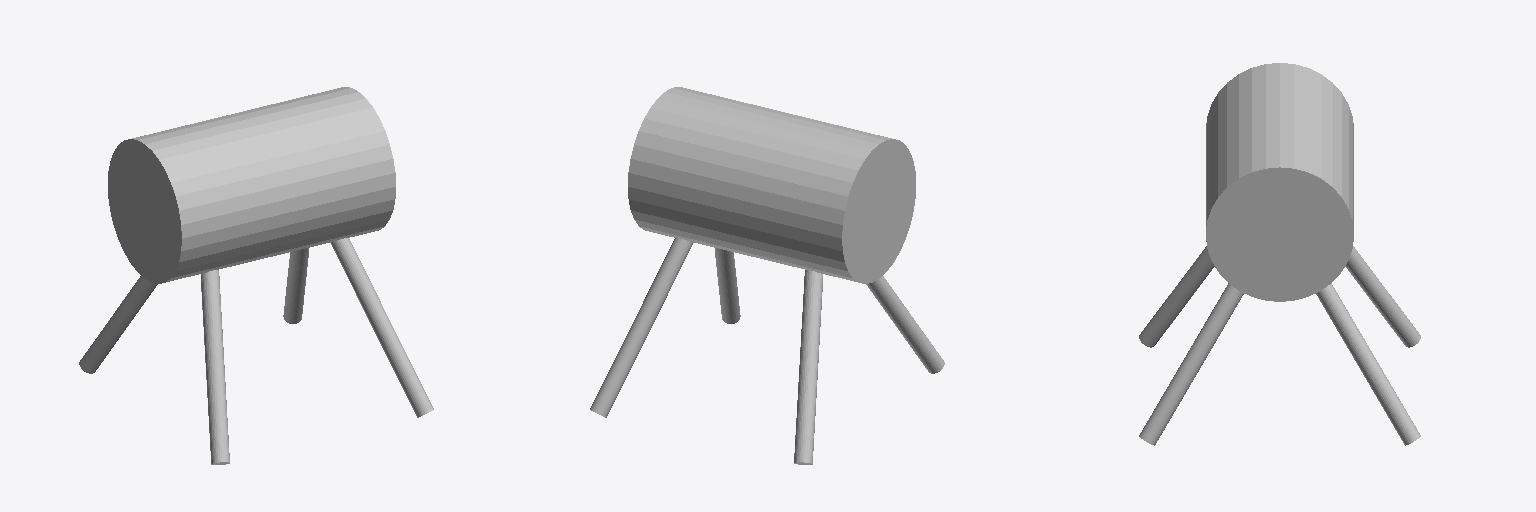
The model's file is target_holder.obj.
3 renders of one model, left to right at view 1: azimuth 30°, elevation 25°; view 2: azimuth 150°, elevation 25°; view 3: azimuth 270°, elevation 25°, orthographic.
Parts seen in each view (by area): view 1: target_holder_Cylinder.001, leg4_Cylinder.005, leg2_Cylinder.003, leg1_Cylinder.002, leg3_Cylinder.004; view 2: target_holder_Cylinder.001, leg3_Cylinder.004, leg1_Cylinder.002, leg2_Cylinder.003, leg4_Cylinder.005; view 3: target_holder_Cylinder.001, leg3_Cylinder.004, leg4_Cylinder.005, leg1_Cylinder.002, leg2_Cylinder.003.
Boxes of the visible parts, <box> form: target_holder_Cylinder.001: <box>108,87,395,283</box>; leg4_Cylinder.005: <box>330,238,433,417</box>; leg2_Cylinder.003: <box>201,270,229,464</box>; leg1_Cylinder.002: <box>79,276,157,373</box>; leg3_Cylinder.004: <box>283,247,309,323</box>; target_holder_Cylinder.001: <box>628,87,915,283</box>; leg3_Cylinder.004: <box>590,238,693,417</box>; leg1_Cylinder.002: <box>794,270,822,464</box>; leg2_Cylinder.003: <box>866,276,944,373</box>; leg4_Cylinder.005: <box>714,247,740,323</box>; target_holder_Cylinder.001: <box>1206,63,1353,301</box>; leg3_Cylinder.004: <box>1316,283,1420,445</box>; leg4_Cylinder.005: <box>1139,283,1243,445</box>; leg1_Cylinder.002: <box>1345,246,1420,347</box>; leg2_Cylinder.003: <box>1139,246,1214,347</box>.
Bounding box in the file's own units: 2.22 × 2.65 × 2.44.